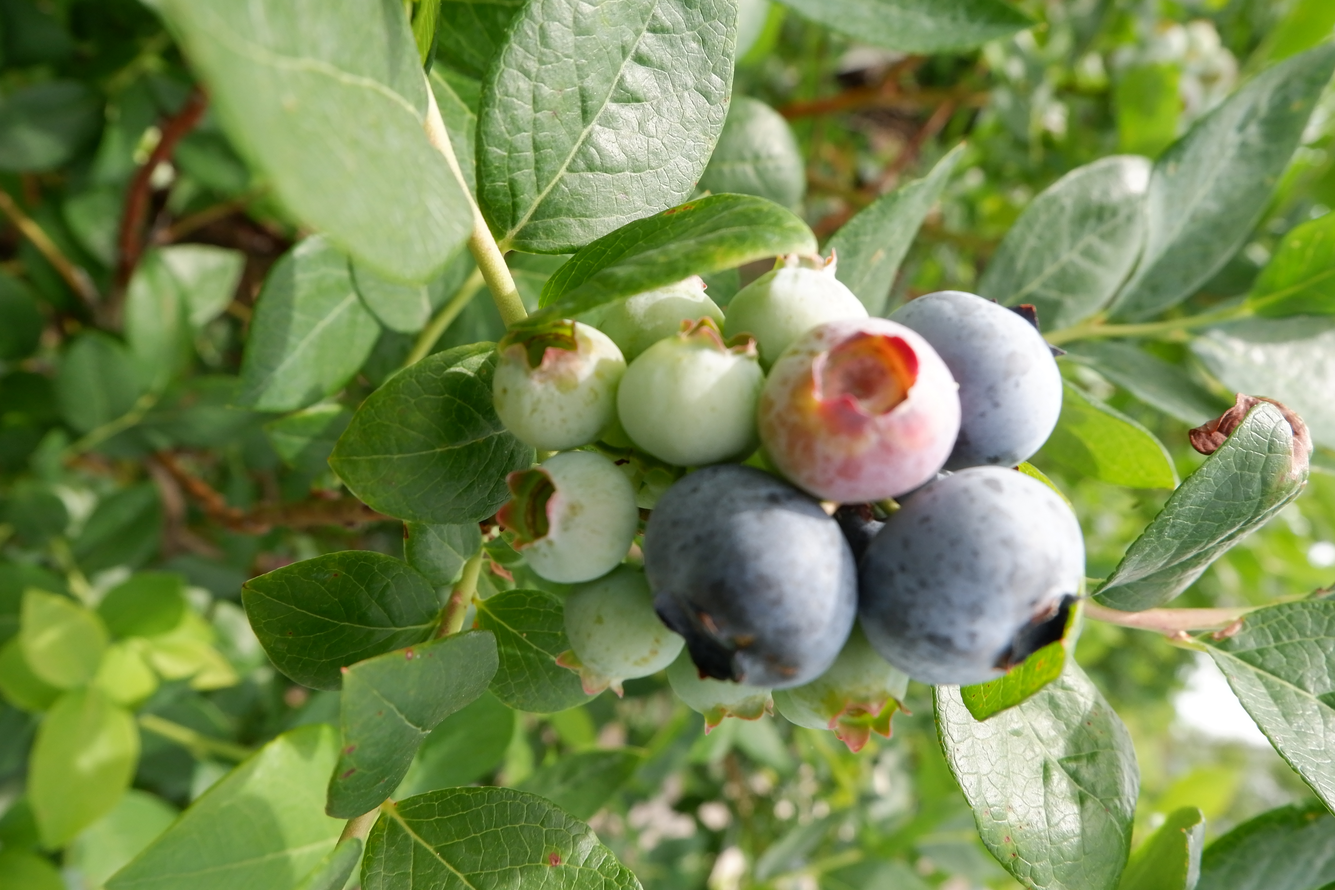Immature: (762, 320, 958, 501), (621, 320, 761, 465), (552, 565, 688, 697), (773, 624, 915, 745), (498, 455, 633, 581), (494, 321, 620, 448), (726, 257, 861, 365), (599, 279, 723, 361), (667, 648, 772, 725)
Mature: (863, 466, 1081, 681), (650, 470, 859, 690), (896, 294, 1061, 466), (833, 507, 887, 592)
